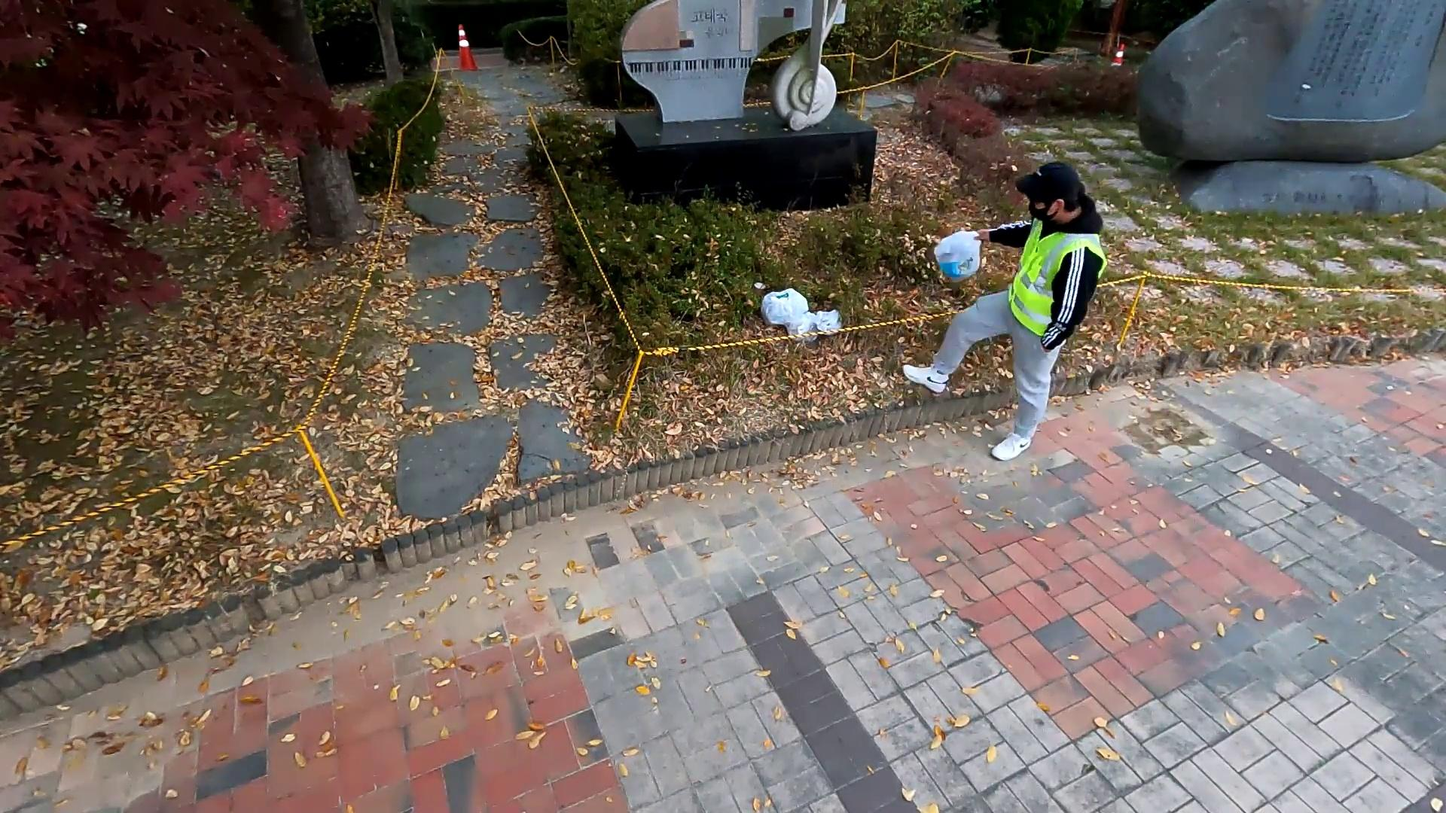person: (902, 160, 1109, 468)
trash: (931, 229, 986, 280), (761, 287, 813, 326), (794, 307, 844, 339)
